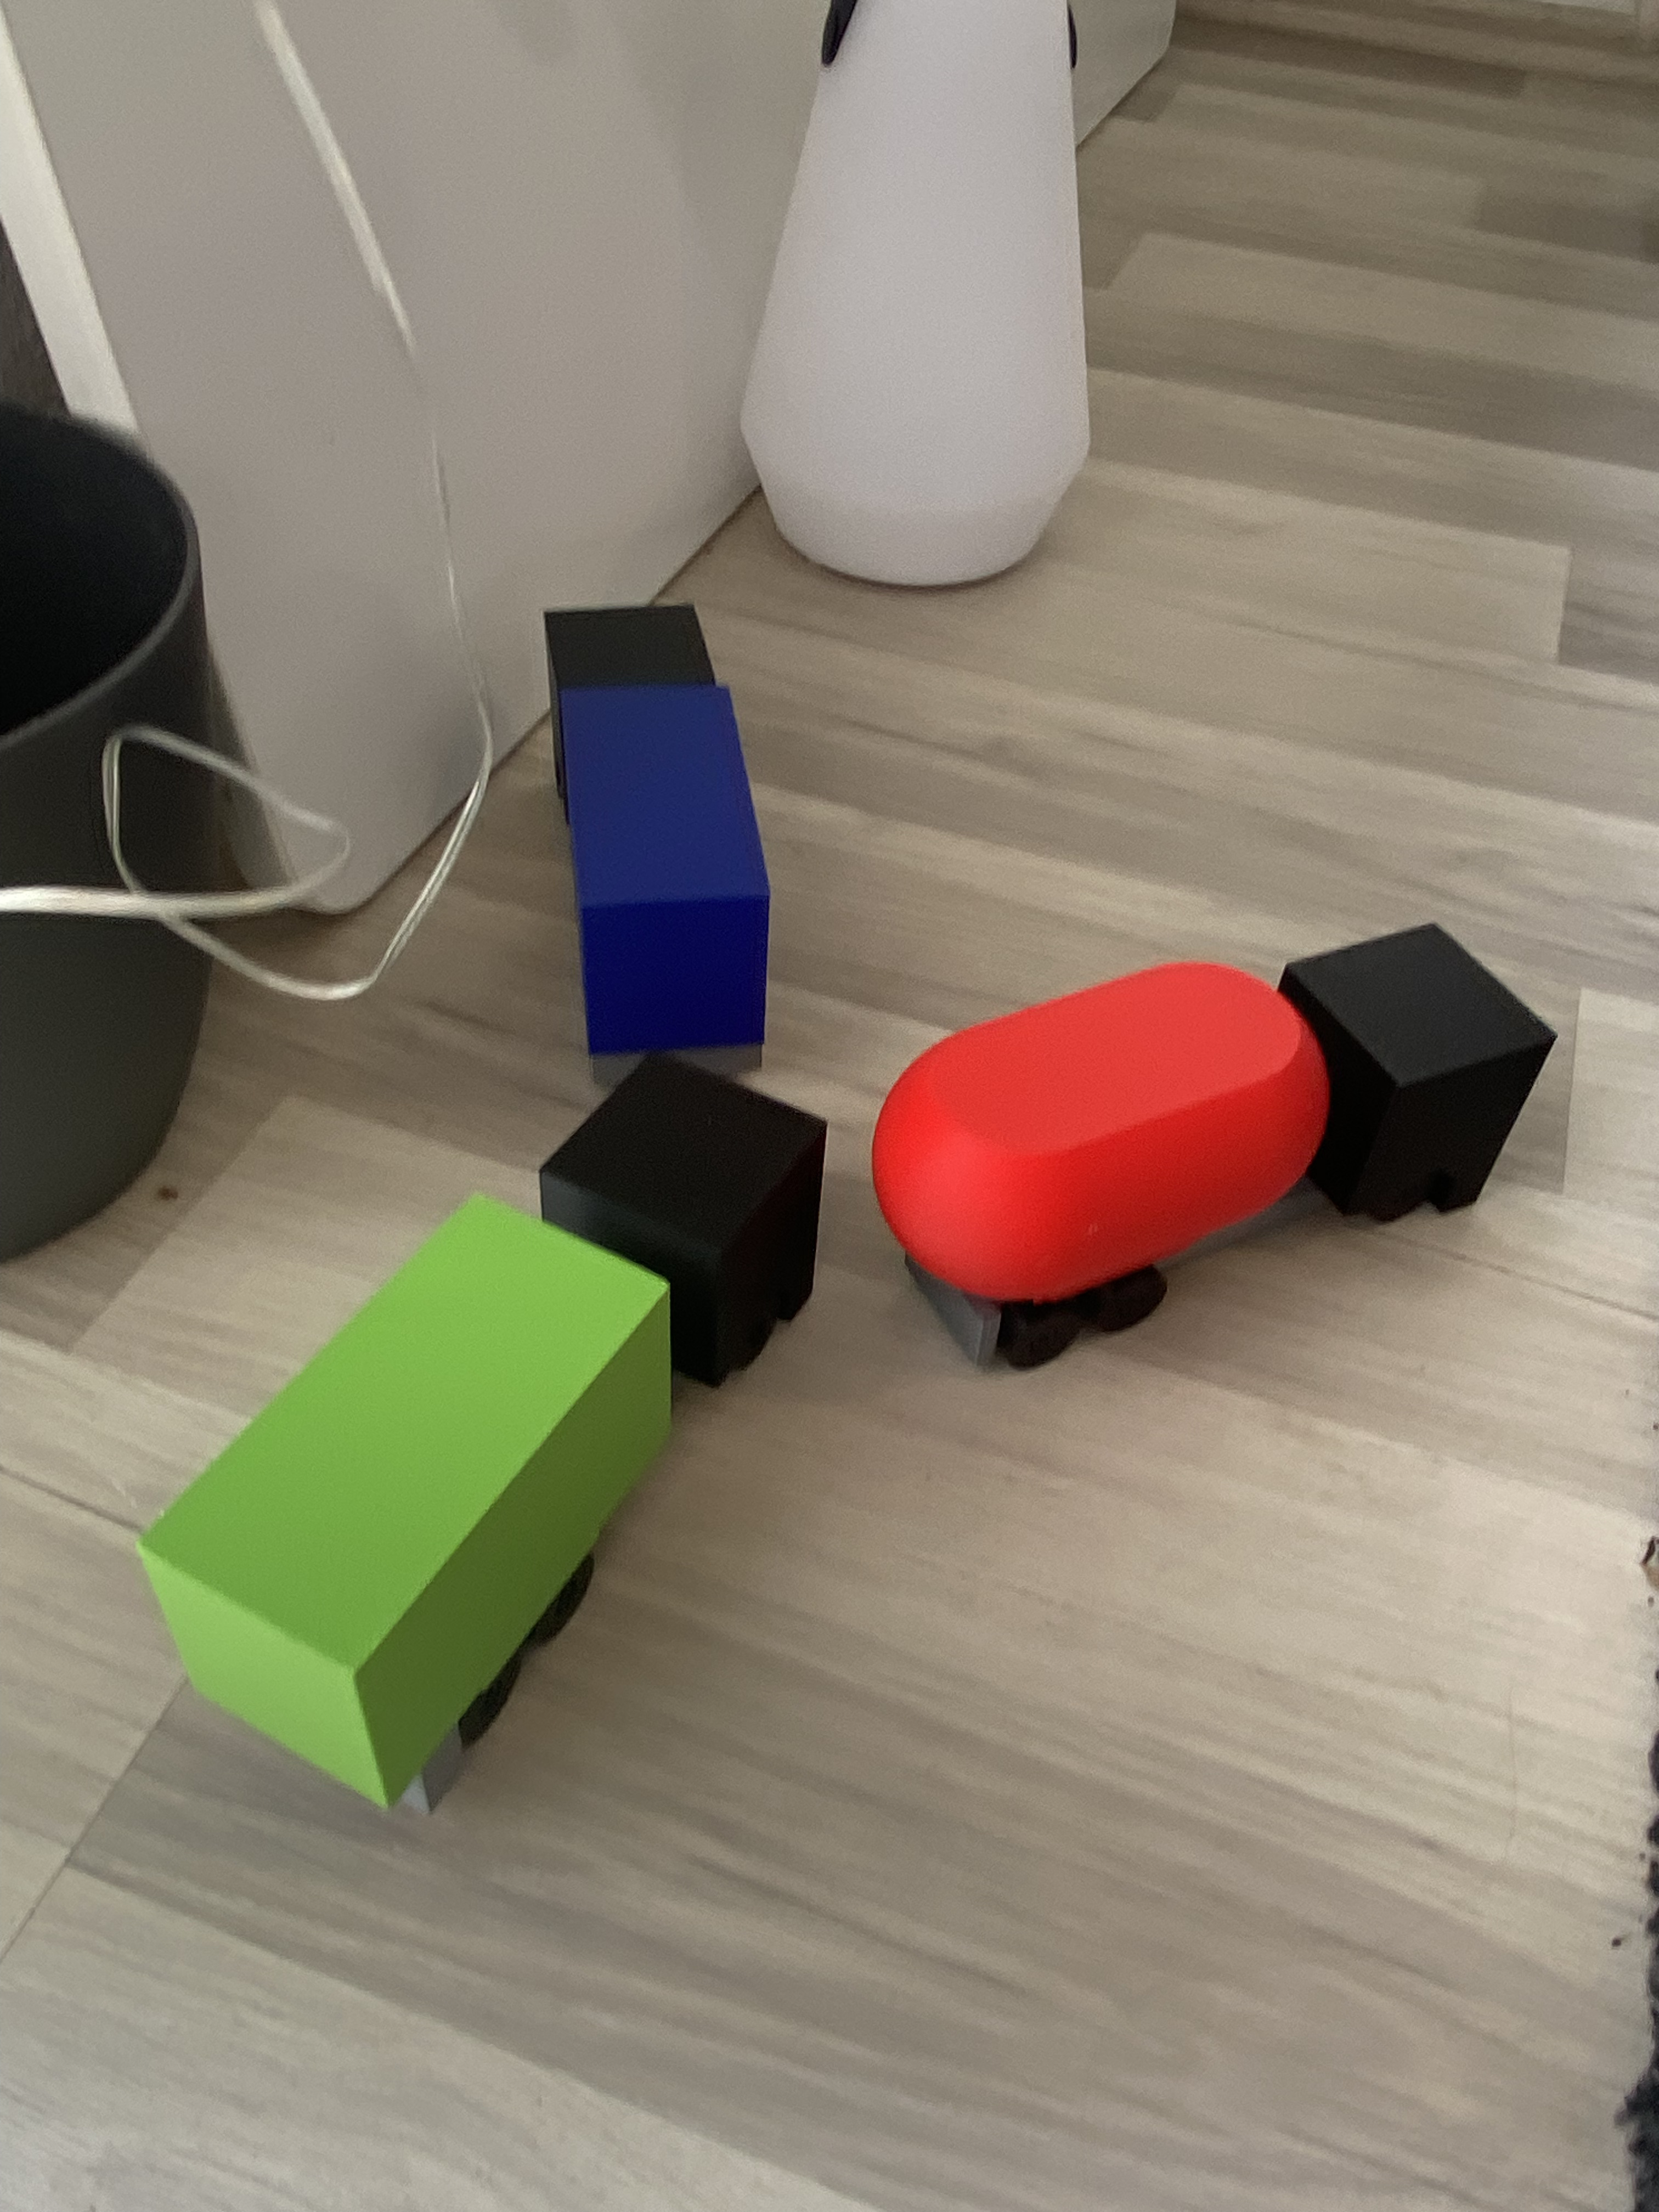blue_truck: (554, 601, 760, 1066)
green_truck: (75, 1212, 929, 1609)
red_truck: (1030, 780, 1420, 1480)
